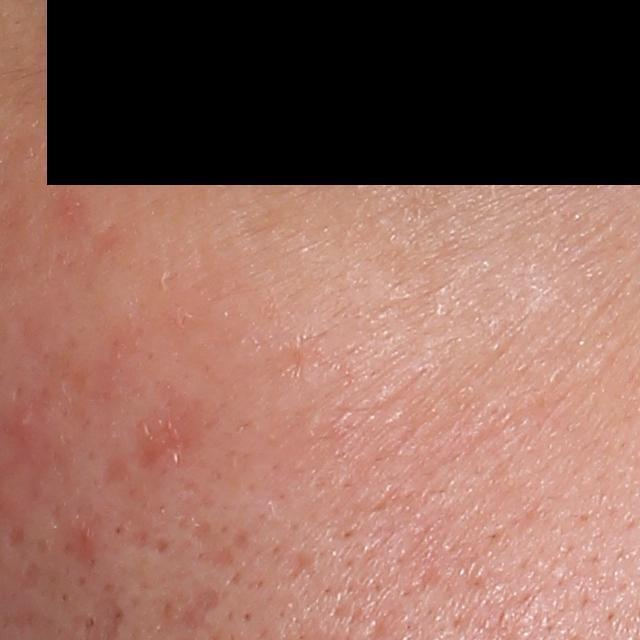atrophic_scar: (187, 518, 252, 566), (178, 585, 218, 630), (284, 553, 316, 581)
